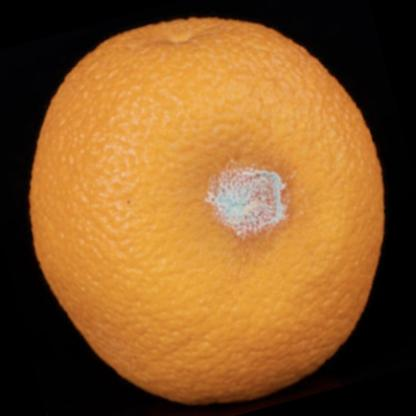rotten: (34, 18, 385, 403)
